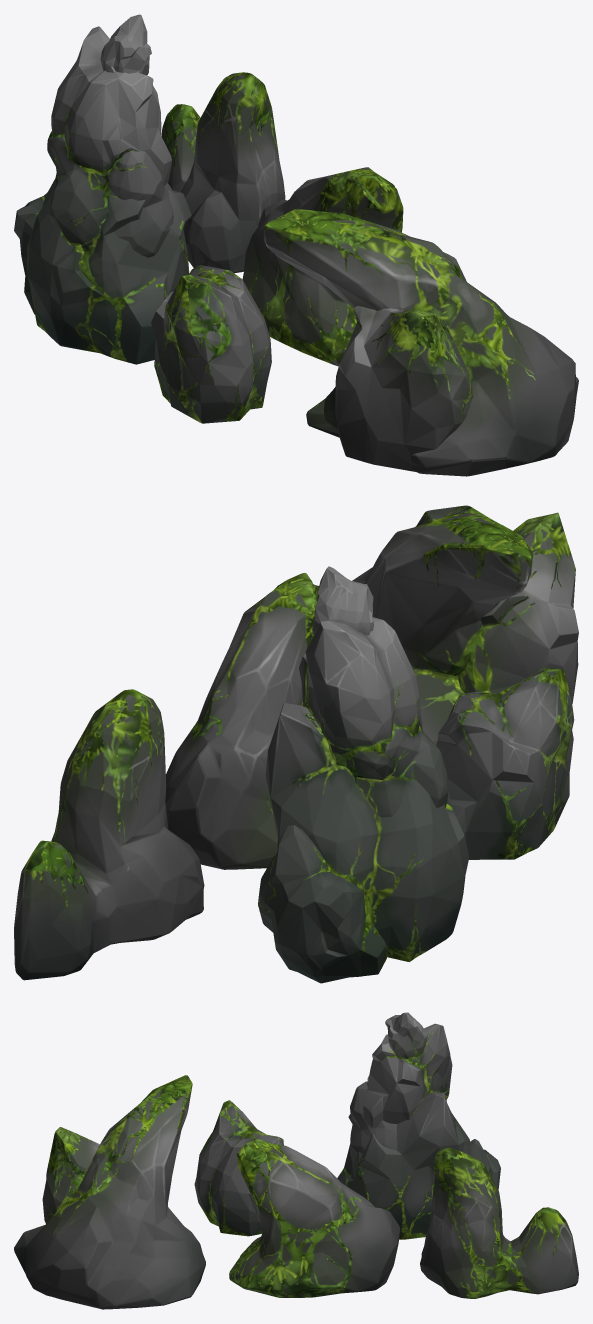
The model's file is rocks.glb.
3 renders of one model, top to bottom at view 1: azimuth 30°, elevation 25°; view 2: azimuth 150°, elevation 25°; view 3: azimuth 270°, elevation 25°, orthographic. The views are drawn at different scales.
Visible parts, largest first — view 1: group8 (×2), rocks:pasted__pasted__pasted__pCube1, pasted__pCube4, rocks:pCube1; view 2: rocks:pasted__pasted__pasted__pCube1, group8 (×2), pasted__pCube4, rocks:pCube1; view 3: group8 (×2), rocks:pasted__pasted__pasted__pCube1, pasted__pCube4, rocks:pCube1.
Part boxes in pixels (x1=…): group8 (×2): x1=242, y1=167, x2=578, y2=476; rocks:pasted__pasted__pasted__pCube1: x1=14, y1=14, x2=191, y2=364; pasted__pCube4: x1=161, y1=72, x2=285, y2=273; rocks:pCube1: x1=151, y1=265, x2=271, y2=423; rocks:pasted__pasted__pasted__pCube1: x1=258, y1=566, x2=468, y2=983; group8 (×2): x1=165, y1=505, x2=578, y2=869; pasted__pCube4: x1=14, y1=689, x2=204, y2=980; rocks:pCube1: x1=436, y1=667, x2=574, y2=859; group8 (×2): x1=14, y1=1075, x2=400, y2=1309; rocks:pasted__pasted__pasted__pCube1: x1=337, y1=1012, x2=500, y2=1239; pasted__pCube4: x1=420, y1=1148, x2=578, y2=1298; rocks:pCube1: x1=194, y1=1100, x2=283, y2=1236.
Size of the model in its own units: 51.6 by 46.5 by 104.
2 materials, 2 textured.
